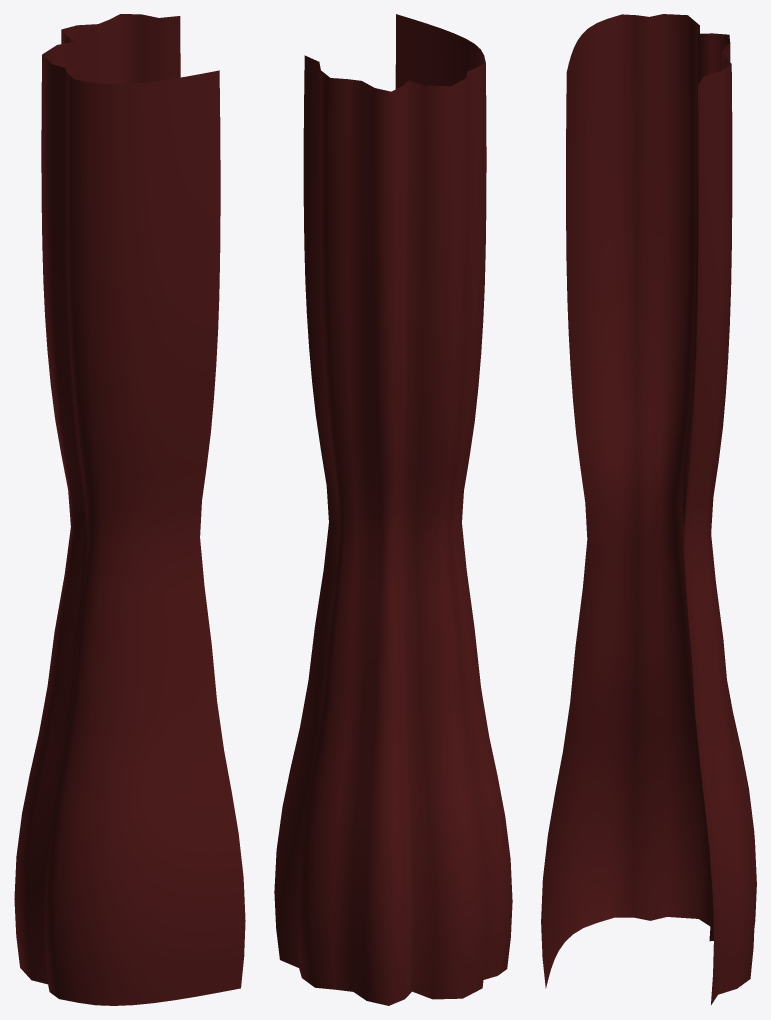
The model's file is ThroneRoom_Curtain_Vertical.fbx.
3 renders of one model, left to right at view 1: azimuth 30°, elevation 25°; view 2: azimuth 150°, elevation 25°; view 3: azimuth 270°, elevation 25°, orthographic.
Visible parts, largest first — view 1: ThroneRoom_Curtain_Vertical 1; view 2: ThroneRoom_Curtain_Vertical 1; view 3: ThroneRoom_Curtain_Vertical 1.
Part boxes in pixels (bbox=[...]): ThroneRoom_Curtain_Vertical 1: bbox=[14, 14, 245, 1005]; ThroneRoom_Curtain_Vertical 1: bbox=[274, 14, 512, 1005]; ThroneRoom_Curtain_Vertical 1: bbox=[541, 14, 756, 1004].
Size of the model in its own units: 1.83 by 8.34 by 1.79.
